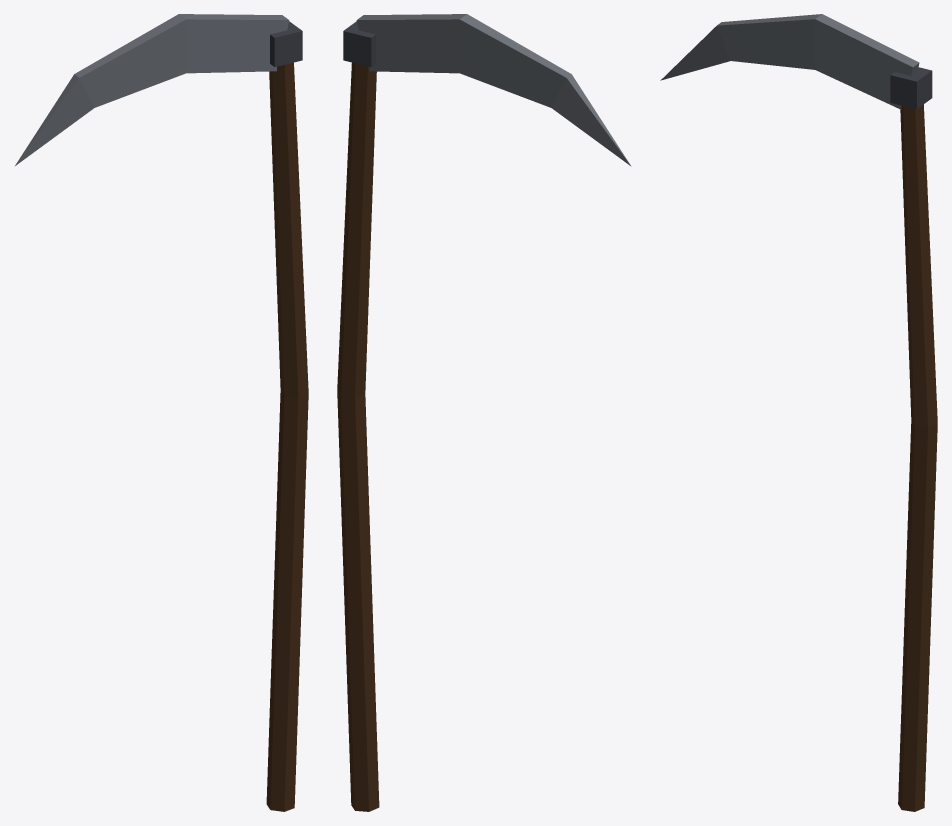
File: weapon_scythe.glb
3 renders of one model, left to right at view 1: azimuth 30°, elevation 25°; view 2: azimuth 150°, elevation 25°; view 3: azimuth 330°, elevation 25°, orthographic. The views are drawn at different scales.
Visible parts, largest first — view 1: weapon_scythe; view 2: weapon_scythe; view 3: weapon_scythe.
Part boxes in pixels (x1,y1,x2,y2): weapon_scythe: (15,14,308,811); weapon_scythe: (337,14,631,811); weapon_scythe: (660,14,937,811).
Size of the model in its own units: 0.6261 by 1.66 by 0.06.
